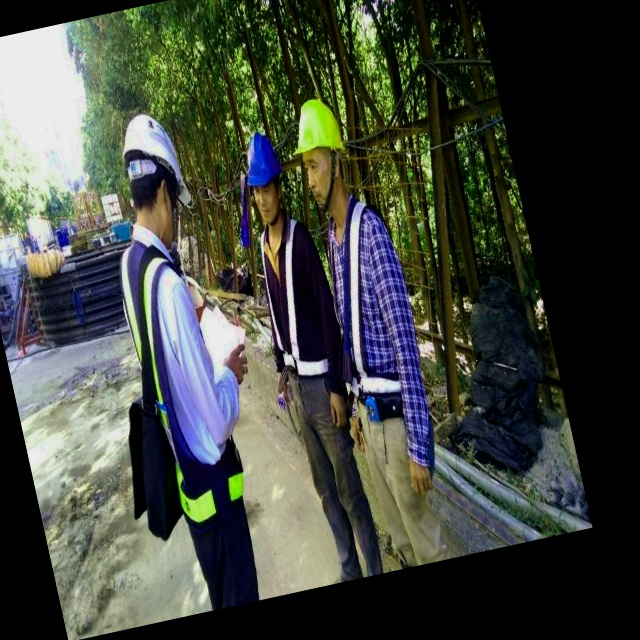Con_Casco: (289, 94, 354, 207), (237, 127, 290, 227)
Con_Chaleco: (106, 236, 251, 521), (241, 205, 341, 386)
